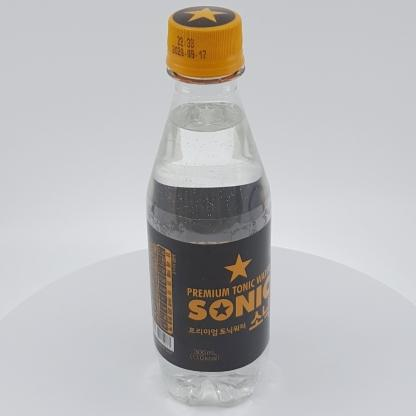----------------300ML: (146, 6, 272, 405)
